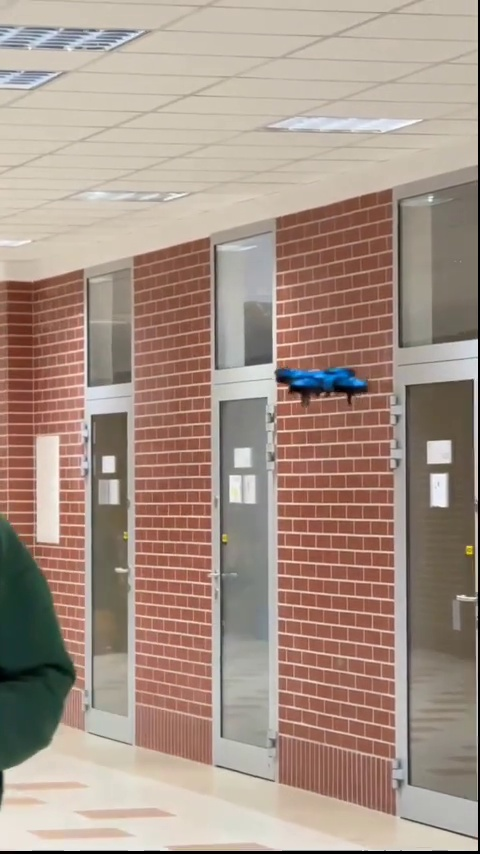drone: (271, 368, 365, 400)
